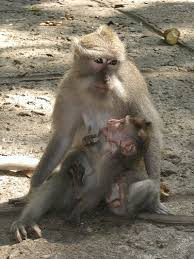monkey: (36, 90, 179, 214), (39, 33, 161, 138)
